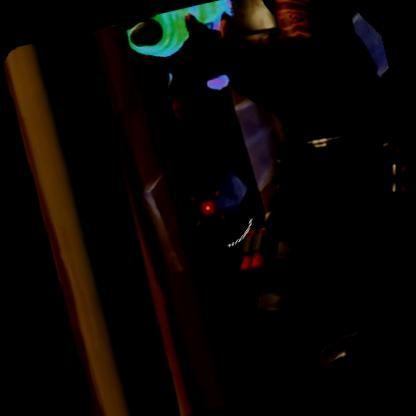person: (181, 0, 416, 405)
